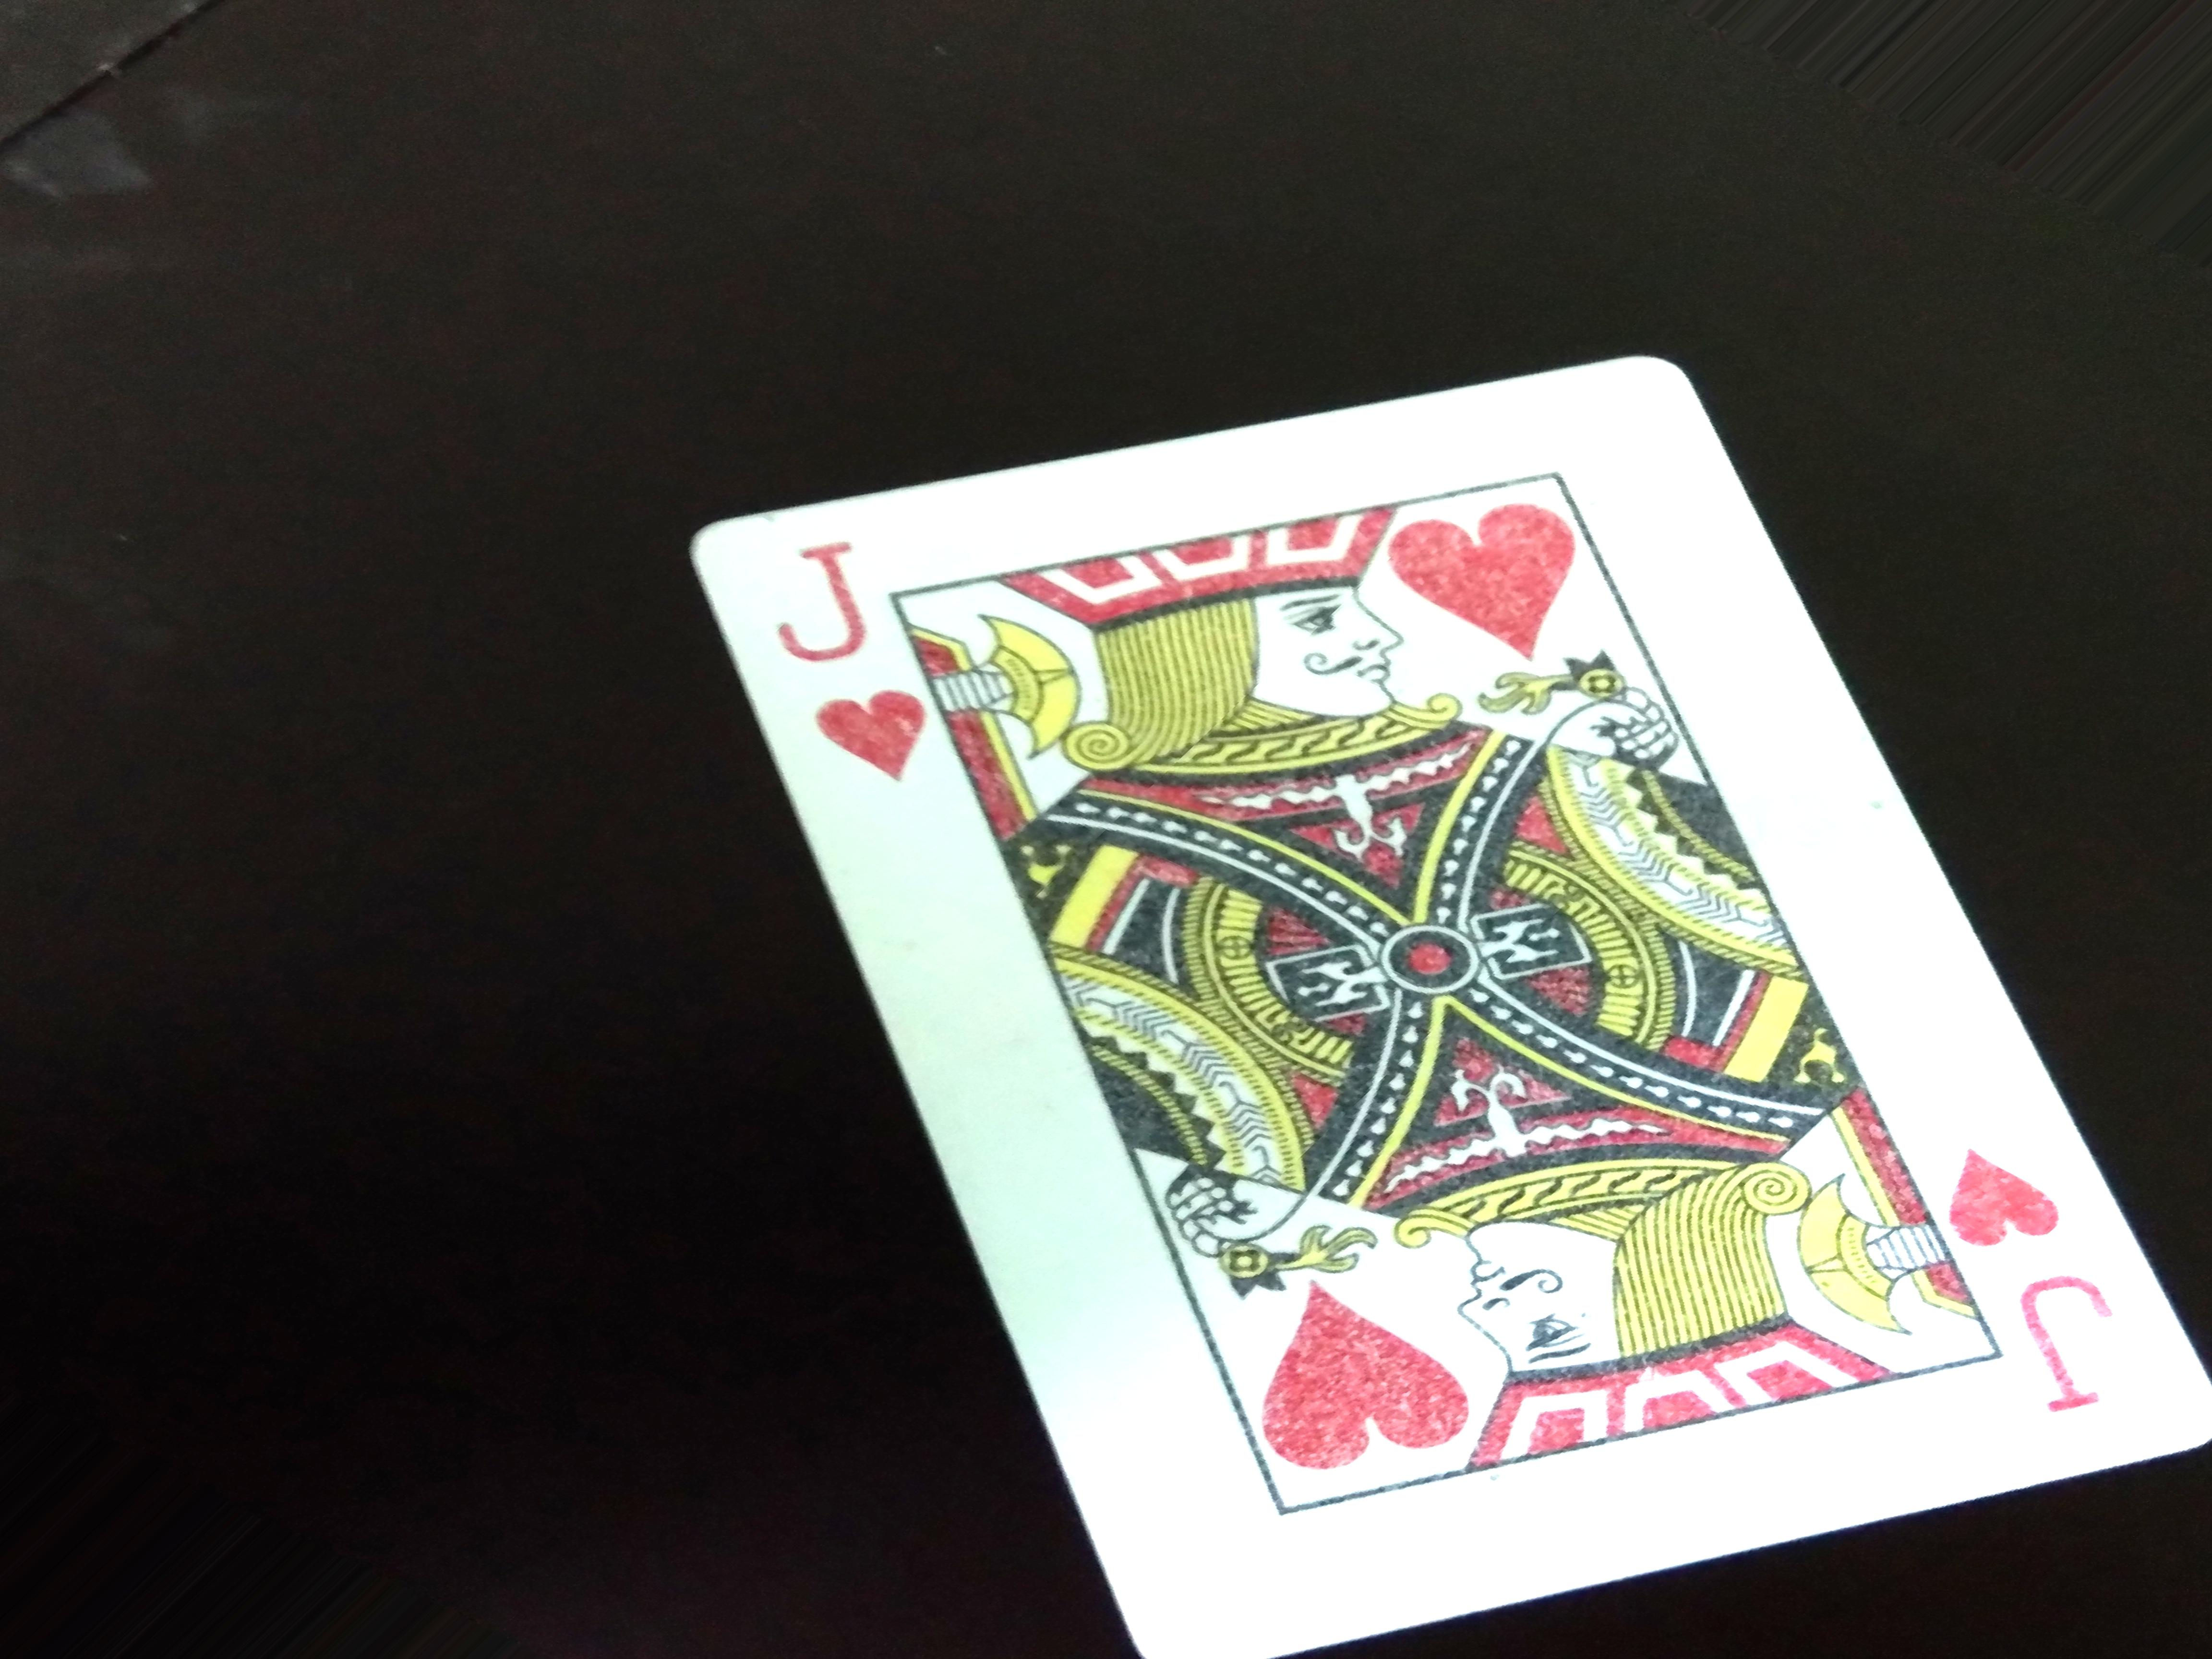JH: (777, 514, 923, 789)
